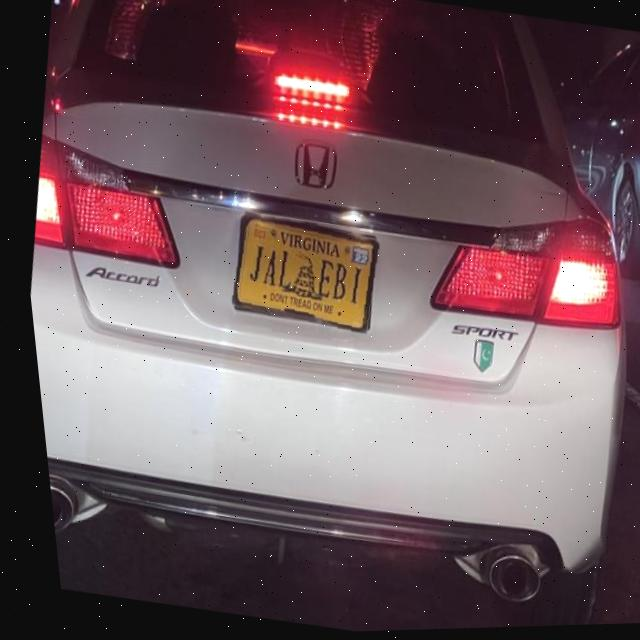LicensePlate: (224, 211, 374, 335)
